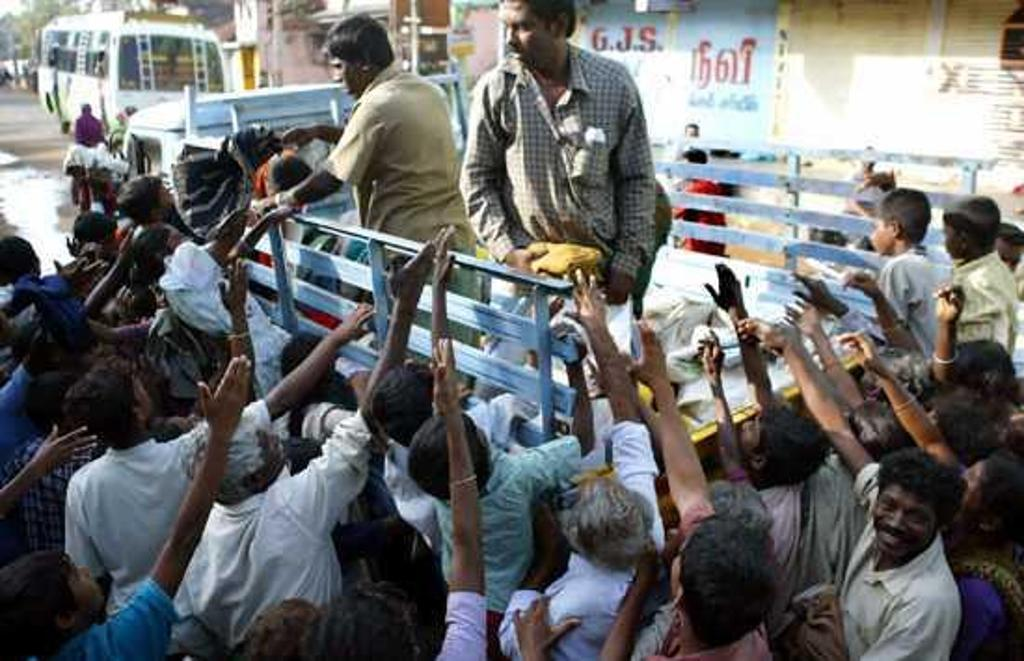face: (874, 486, 940, 558), (500, 1, 555, 63), (60, 558, 105, 613), (330, 52, 366, 96), (128, 372, 155, 426), (163, 225, 193, 273), (734, 413, 764, 454), (870, 211, 896, 257), (151, 178, 177, 220), (254, 428, 283, 462), (943, 221, 969, 258), (996, 236, 1016, 262), (685, 129, 699, 145)
